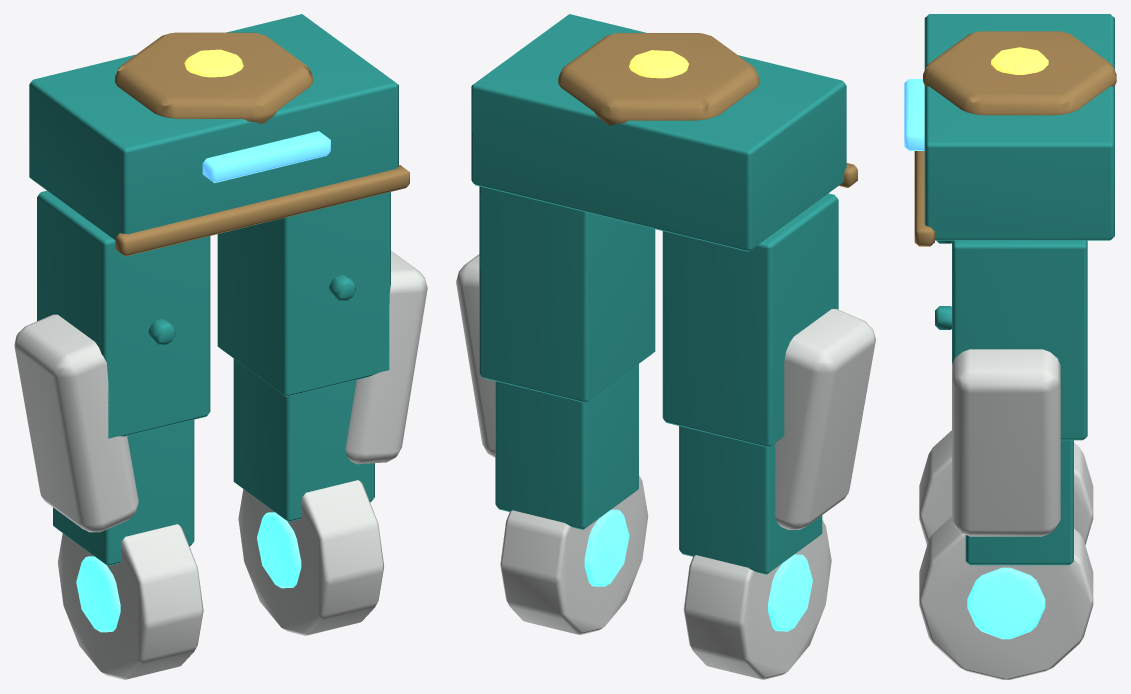
Rendered from whirligig_legs_zephyr.glb.
3 renders of one model, left to right at view 1: azimuth 30°, elevation 25°; view 2: azimuth 150°, elevation 25°; view 3: azimuth 270°, elevation 25°, orthographic. The views are drawn at different scales.
Visible parts, largest first — view 1: whirligig_legs_zephyr; view 2: whirligig_legs_zephyr; view 3: whirligig_legs_zephyr.
Boxes of the visible parts, <box> form: whirligig_legs_zephyr: <box>14,14,427,679</box>; whirligig_legs_zephyr: <box>456,14,875,679</box>; whirligig_legs_zephyr: <box>904,14,1116,679</box>.
Bounding box in the file's own units: 0.6213 × 0.9208 × 0.3125.
Materials: 1 (1 with a texture image).
